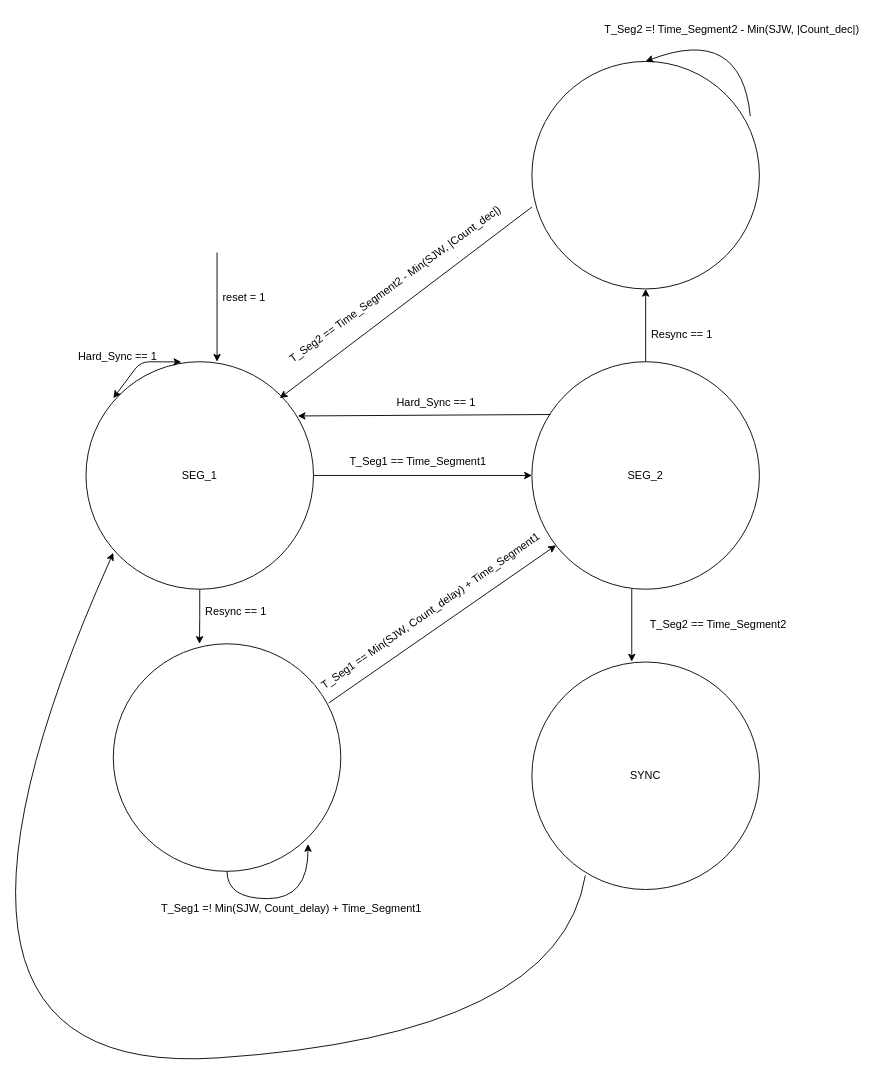
Image size: 885x1075. Some labels were removed from this diagram. Here are the shapes that lost their labels. From the top down, the centre of each, then its label:
the point at 645,175: WINDOW_2
the point at 226,757: WINDOW_1
